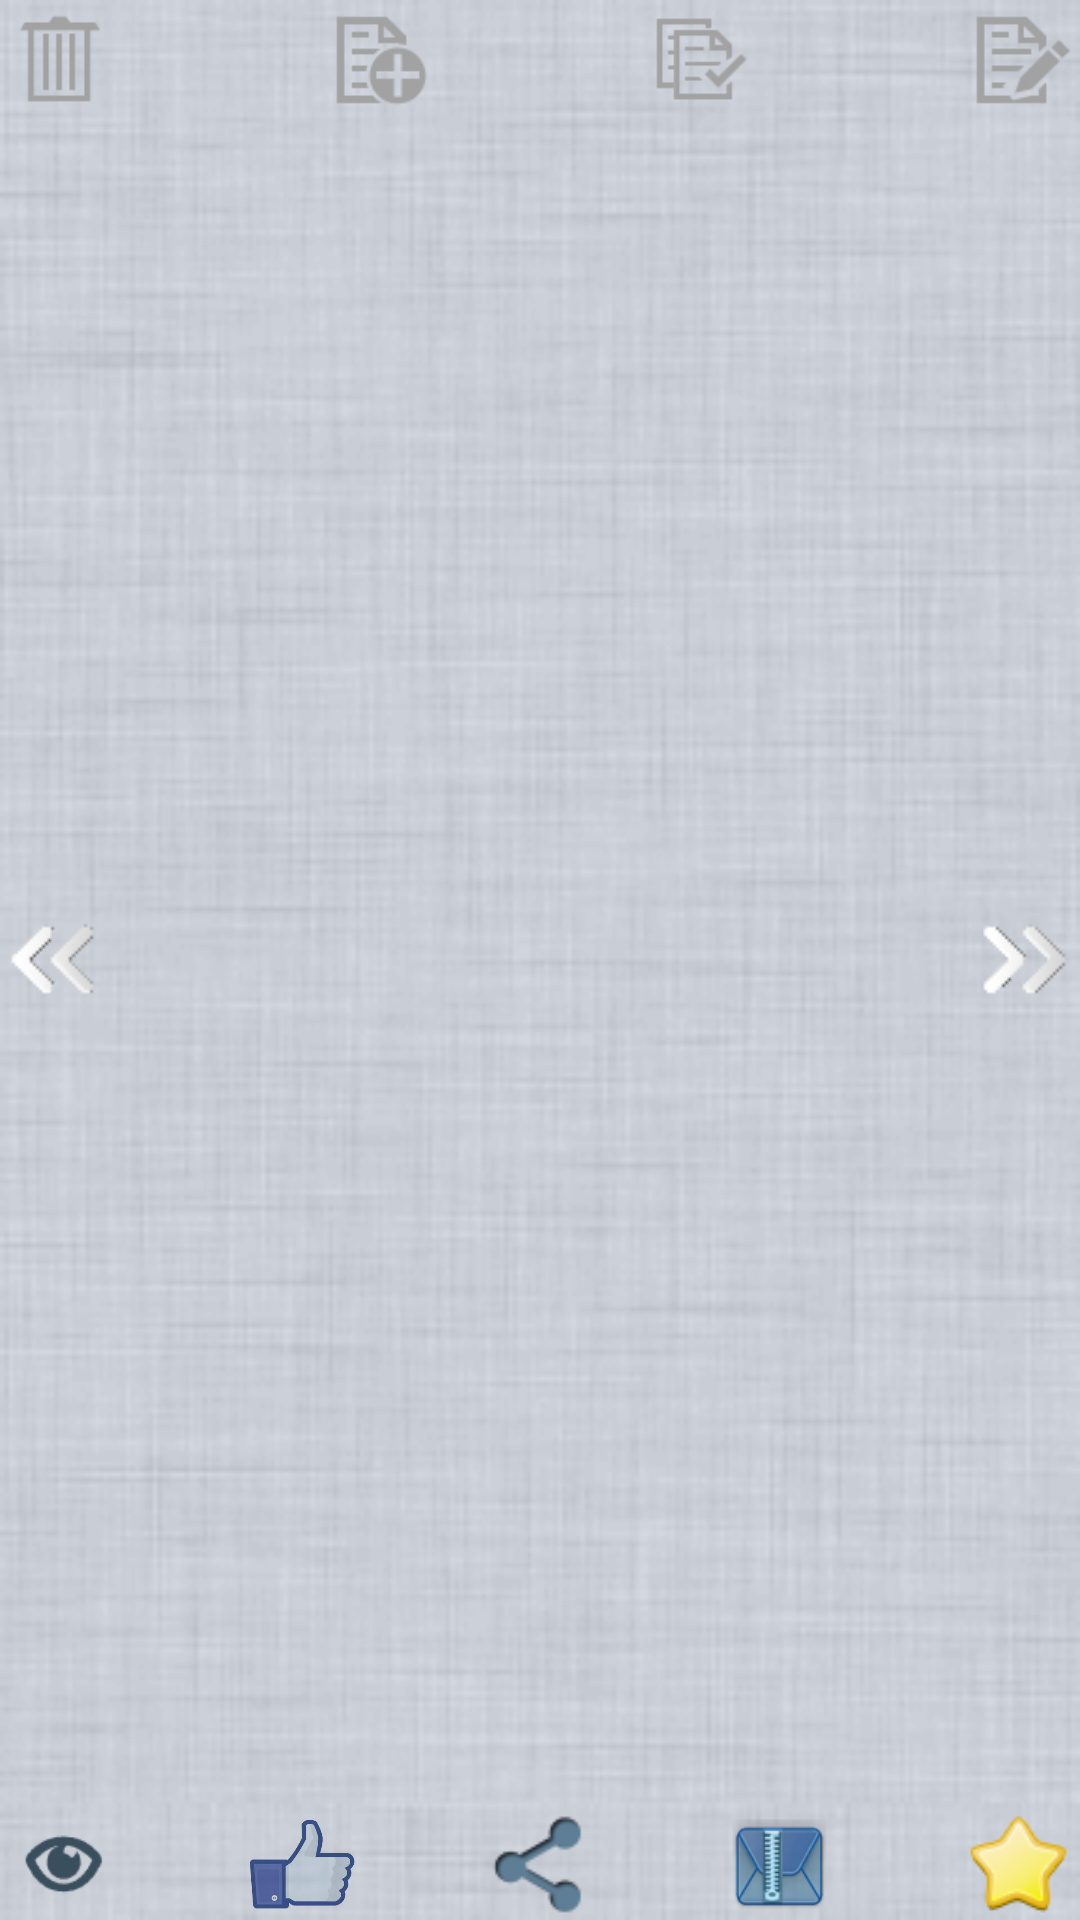

Locate icon controls on the screen. Image size 1080 x 1920, boxes as Rect(x1, y1, x2, y2).
compress: Rect(735, 1820, 824, 1907)
delete: Rect(21, 16, 99, 102)
edit: Rect(977, 17, 1069, 103)
favorite: Rect(970, 1816, 1067, 1912)
left arrow: Rect(12, 925, 94, 993)
right arrow: Rect(984, 925, 1065, 993)
share: Rect(494, 1816, 581, 1913)
view: Rect(25, 1835, 102, 1892)
